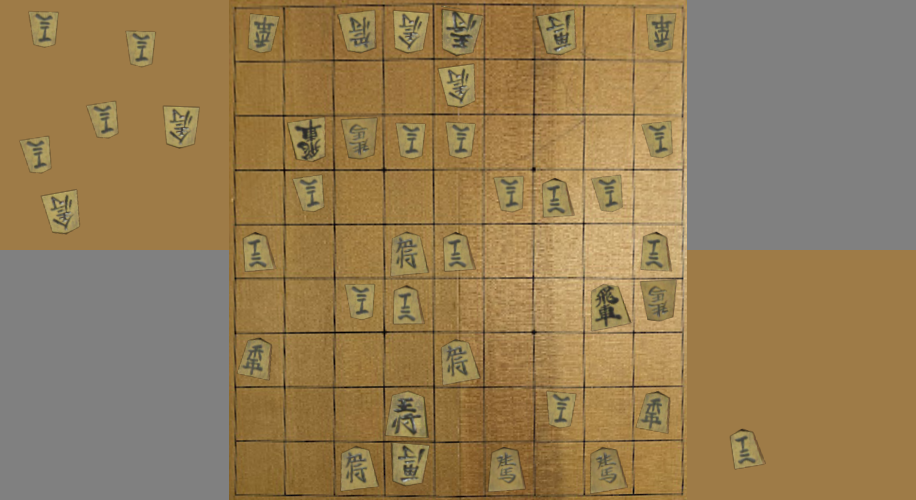A: (591, 285, 630, 330), (387, 392, 426, 437), (441, 341, 479, 384), (488, 446, 524, 491), (590, 448, 626, 493), (341, 448, 377, 490), (392, 233, 427, 275), (635, 391, 669, 433), (638, 231, 671, 271), (243, 230, 274, 271), (239, 340, 271, 379), (541, 178, 573, 216), (443, 234, 473, 271), (394, 287, 423, 324)
B: (336, 9, 377, 52), (538, 11, 577, 56), (443, 11, 482, 55), (288, 118, 324, 161), (394, 444, 429, 485), (641, 281, 676, 321), (440, 65, 474, 106), (342, 118, 376, 159), (394, 11, 428, 52), (246, 14, 279, 55), (394, 122, 425, 158), (647, 14, 676, 51), (593, 176, 622, 212), (294, 176, 323, 211), (643, 122, 672, 157), (494, 177, 523, 211), (547, 392, 575, 427), (346, 285, 374, 319), (448, 123, 475, 158)
C: (731, 426, 768, 469)
D: (164, 105, 201, 149), (42, 190, 79, 233), (87, 100, 122, 137), (29, 9, 63, 47), (20, 135, 53, 173), (127, 30, 157, 66)
